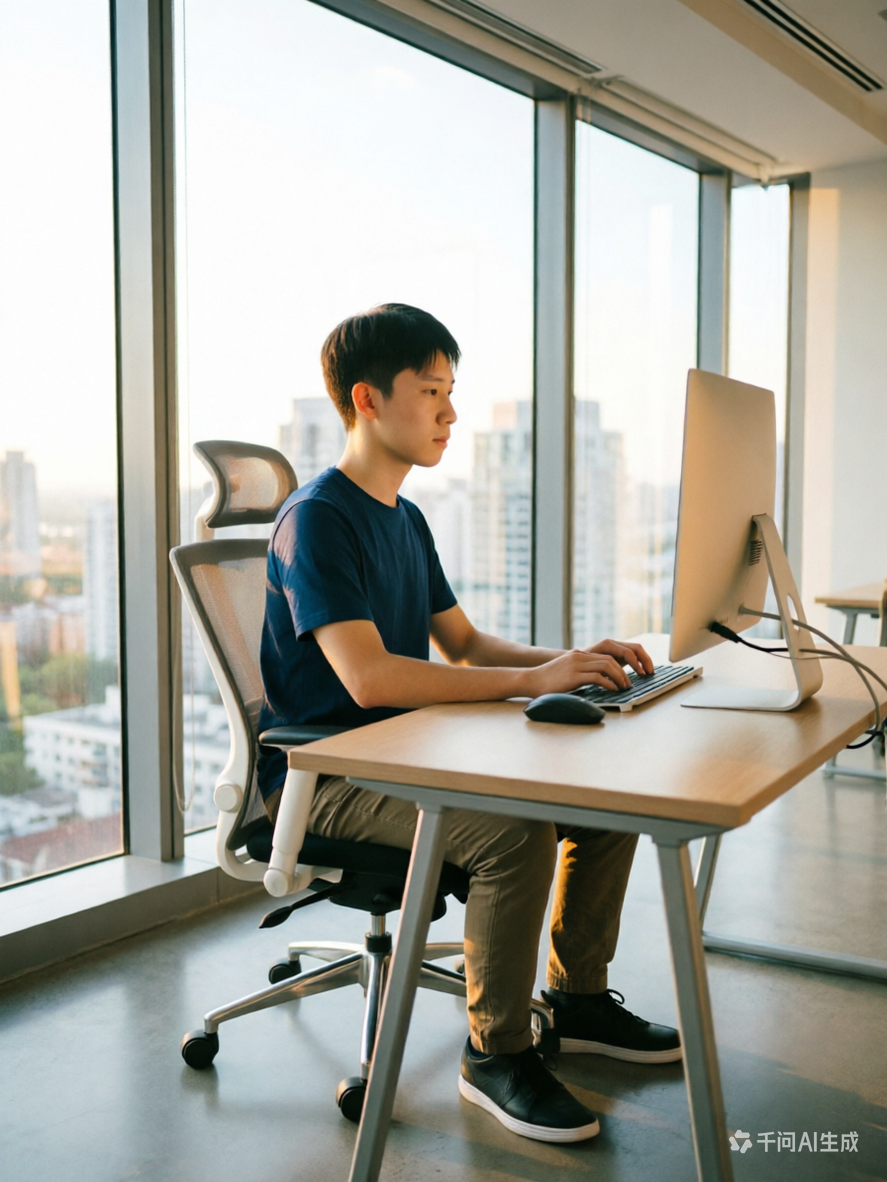sitting_good: (259, 309, 675, 1132)
